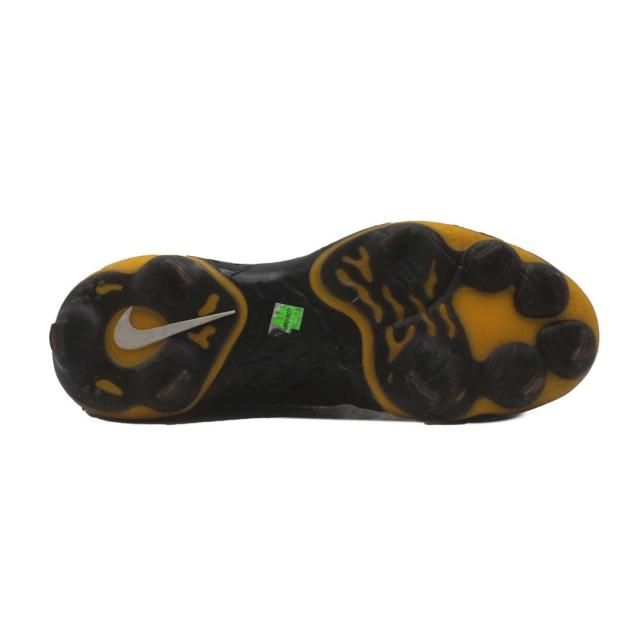outersole: (53, 225, 596, 421)
